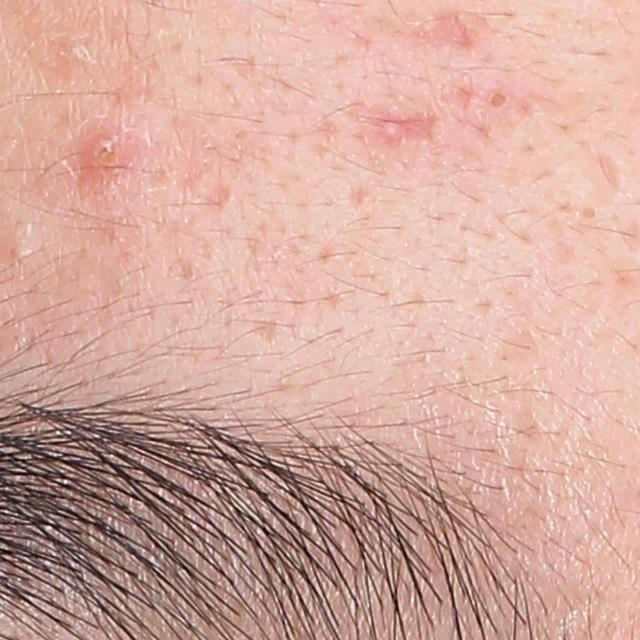atrophic_scar: (390, 12, 486, 68), (155, 126, 214, 203), (364, 114, 437, 141), (597, 150, 626, 194), (206, 183, 234, 212), (252, 318, 281, 345)
comedo: (48, 37, 90, 68), (482, 82, 514, 118), (574, 205, 604, 222)
papule: (86, 134, 133, 178)
